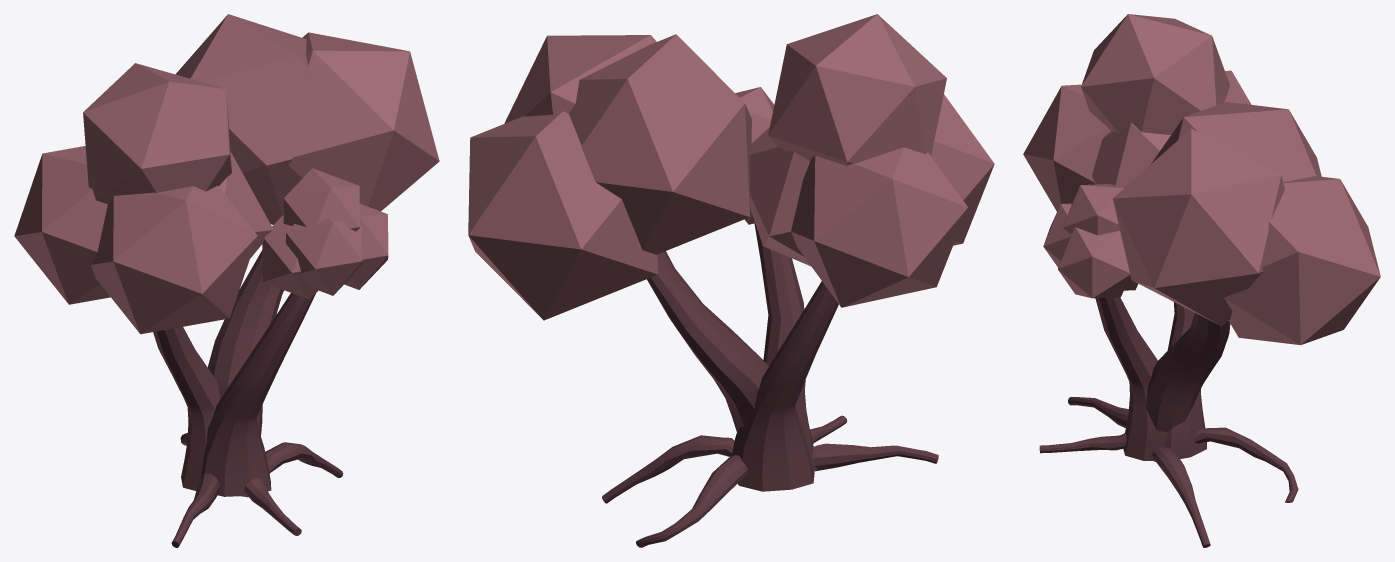
File: Tree_02.fbx
3 views of the same model, side by side, from view 1: azimuth 30°, elevation 25°; view 2: azimuth 150°, elevation 25°; view 3: azimuth 270°, elevation 25° (orthographic). The views are drawn at different scales.
Parts seen in each view (by area): view 1: Tree_Top_02, Tree_Base_02; view 2: Tree_Top_02, Tree_Base_02; view 3: Tree_Top_02, Tree_Base_02.
Boxes of the visible parts, x1,y1,x2,y2 form: Tree_Top_02: [14, 14, 439, 334]; Tree_Base_02: [153, 250, 343, 547]; Tree_Top_02: [468, 14, 994, 320]; Tree_Base_02: [602, 223, 938, 547]; Tree_Top_02: [1023, 14, 1380, 345]; Tree_Base_02: [1039, 297, 1298, 547].
Bounding box in the file's own units: 221 × 256 × 189.
